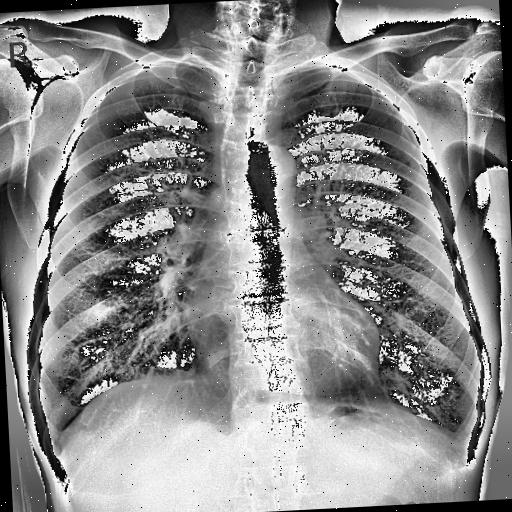10- Pleural effusion: (35, 408, 76, 458), (436, 416, 481, 458), (440, 424, 480, 464), (446, 424, 474, 460)
11- Pleural thickening: (35, 408, 76, 458), (436, 416, 481, 458), (440, 424, 480, 464), (446, 424, 474, 460)
